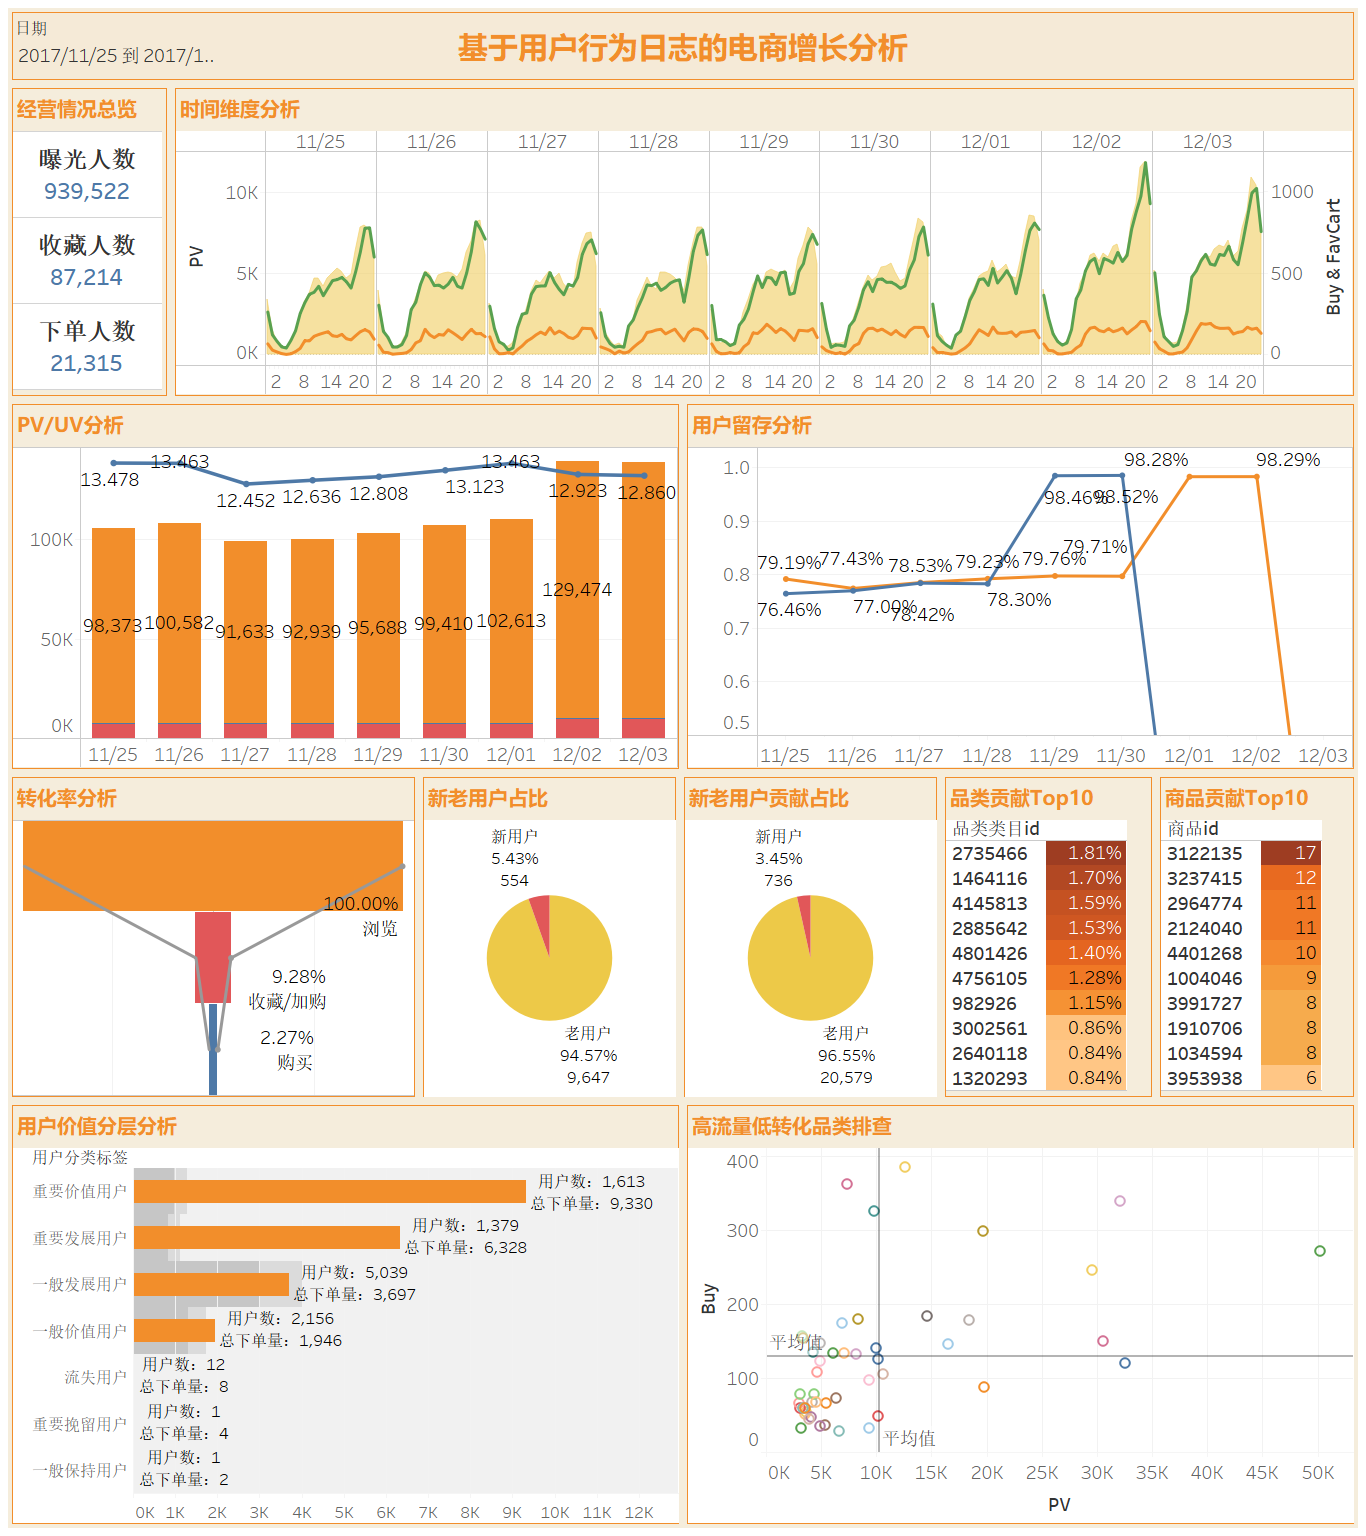

This screenshot's page, from the dashboard's own definition file:
{"tool":"tableau","page":{"name":"仪表板 1","canvas":[1366,1536],"ordinal":0},"visuals":[{"type":"text","box":[8,8,1350,76]},{"type":"filter","title":"经营情况总览","param":"[federated.0e5gexq0xttc021e9rixq11vsv9w].[none:event_date:qk]","box":[15,16,200,68]},{"type":"worksheet","title":"经营情况总览","mark":"Automatic","box":[8,84,163,316]},{"type":"worksheet","title":"时间维度分析","mark":"Area","rows":["pv_cnt"],"cols":["event_date","event_hour"],"box":[171,84,1187,316]},{"type":"worksheet","title":"PV/UV分析","mark":"Line","rows":["人均浏览深度(PV/UV)"],"cols":["日期"],"box":[8,400,674.9,373]},{"type":"worksheet","title":"用户留存分析","mark":"Automatic","rows":["次日留存率(%)","三日留存率(%)"],"cols":["活跃基准日期"],"box":[682.9,400,675,373]},{"type":"worksheet","title":"转化率分析","mark":"Automatic","rows":["stage"],"cols":["value","value","value","value"],"box":[8,773,411,327.8]},{"type":"worksheet","title":"新老用户占比","mark":"Pie","box":[419,773,261,327.8]},{"type":"worksheet","title":"新老用户贡献占比","mark":"Pie","box":[680,773,261,327.8]},{"type":"worksheet","title":"品类贡献Top10","mark":"Square","rows":["品类类目ID"],"box":[941,773,215,327.8]},{"type":"worksheet","title":"商品贡献Top10","mark":"Square","rows":["商品ID"],"box":[1156,773,202,327.8]},{"type":"worksheet","title":"用户价值分层分析","mark":"Automatic","rows":["用户分类标签"],"cols":["总贡献购买次数"],"box":[8,1100.8,674.9,427.2]},{"type":"worksheet","title":"高流量低转化品类排查","mark":"Automatic","rows":["总购买量"],"cols":["总浏览量"],"box":[682.9,1100.8,675,427.2]}]}

Visuals, with their boxes in screenshot pixels (x1, y1, x2, y2), scaled from the page's 1366x1536 canvas onto the 1366x1536 screenshot:
text: bbox(8, 8, 1358, 84)
"经营情况总览" filter: bbox(15, 16, 215, 84)
"经营情况总览" worksheet: bbox(8, 84, 171, 400)
"时间维度分析" worksheet (Area marks): bbox(171, 84, 1358, 400)
"PV/UV分析" worksheet (Line marks): bbox(8, 400, 683, 773)
"用户留存分析" worksheet: bbox(683, 400, 1358, 773)
"转化率分析" worksheet: bbox(8, 773, 419, 1101)
"新老用户占比" worksheet (Pie marks): bbox(419, 773, 680, 1101)
"新老用户贡献占比" worksheet (Pie marks): bbox(680, 773, 941, 1101)
"品类贡献Top10" worksheet (Square marks): bbox(941, 773, 1156, 1101)
"商品贡献Top10" worksheet (Square marks): bbox(1156, 773, 1358, 1101)
"用户价值分层分析" worksheet: bbox(8, 1101, 683, 1528)
"高流量低转化品类排查" worksheet: bbox(683, 1101, 1358, 1528)
